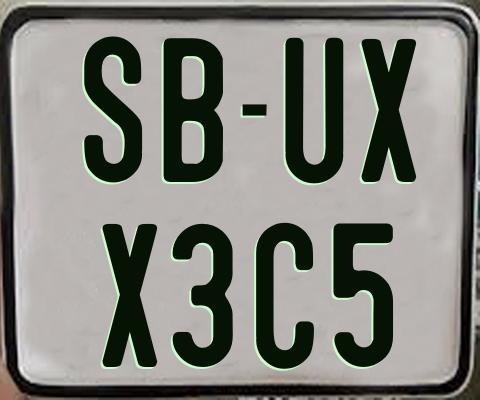3: (170, 224, 234, 369)
5: (330, 220, 391, 365)
B: (163, 37, 225, 184)
C: (255, 223, 318, 375)
S: (82, 35, 140, 186)
U: (282, 36, 340, 182)
X: (360, 37, 420, 185), (103, 224, 163, 370)
